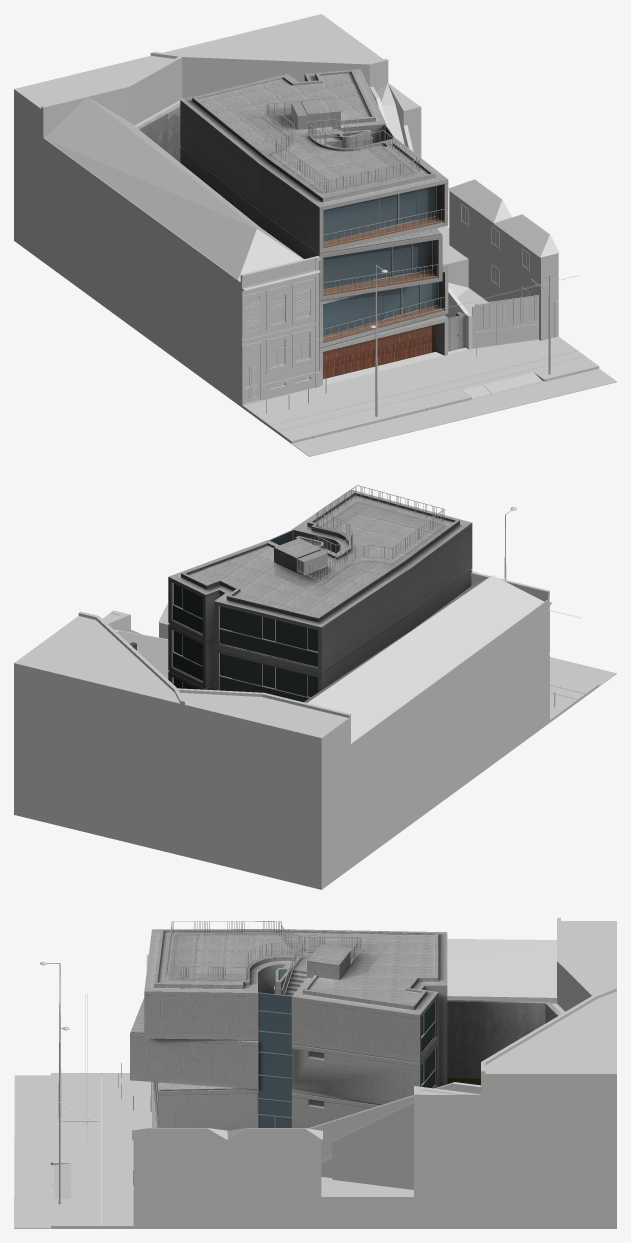
3 renders of one model, top to bottom at view 1: azimuth 30°, elevation 25°; view 2: azimuth 150°, elevation 25°; view 3: azimuth 270°, elevation 25°, orthographic.
Visible parts, largest first — view 1: Mesh24 Group13 Group12 Group2 Model, Mesh7 Group1 Model, Mesh52 Union Group43 Model, Mesh514 Group274 Group273 Group270 Group268 Group64 Model, Mesh107 Group100 Group96 Group90 Group64 Model, Mesh25 Group15 Group14 Model, Mesh14 Group4 Group3 Group2 Model, Mesh375 Group215 Group214 Group213 Group64 Model, Mesh22 Group10 Group3 Group2 Model, Mesh380 Group216 Group214 Group213 Group64 Model, Mesh512 Group272 Group270 Group268 Group64 Model, Mesh230 Group138 Group137 Group64 Model (+18 smaller); view 2: Mesh24 Group13 Group12 Group2 Model, Mesh7 Group1 Model, Mesh514 Group274 Group273 Group270 Group268 Group64 Model, Mesh52 Union Group43 Model, Mesh500 Group255 Group240 janelas_tras_2_2 Group213 Group64 , Mesh375 Group215 Group214 Group213 Group64 Model, Mesh380 Group216 Group214 Group213 Group64 Model, Mesh512 Group272 Group270 Group268 Group64 Model, Mesh347 Group178 Group174 Group159 Group64 Model, Mesh345 Group177 Group174 Group159 Group64 Model, Mesh485 Group233 Group213 Group64 Model, Mesh240 Group151 Group137 Group64 Model (+2 smaller); view 3: Mesh24 Group13 Group12 Group2 Model, Mesh514 Group274 Group273 Group270 Group268 Group64 Model, Mesh52 Union Group43 Model, Mesh347 Group178 Group174 Group159 Group64 Model, Mesh375 Group215 Group214 Group213 Group64 Model, Mesh51 OuterShell Group42 Group41 Group14 Model, Mesh7 Group1 Model, Mesh14 Group4 Group3 Group2 Model, Mesh22 Group10 Group3 Group2 Model, Mesh245 Group155 Group137 Group64 Model, Mesh98 Group92 Group91 Group90 Group64 Model, Mesh942 Group279 Group277 Group268 Group64 Model (+17 smaller).
Boxes of the visible parts, box(x1,y1,x2,y2) form: Mesh24 Group13 Group12 Group2 Model: box(14, 14, 616, 456); Mesh7 Group1 Model: box(45, 97, 320, 404); Mesh52 Union Group43 Model: box(15, 14, 387, 137); Mesh514 Group274 Group273 Group270 Group268 Group64 Model: box(198, 73, 429, 196); Mesh107 Group100 Group96 Group90 Group64 Model: box(323, 186, 437, 335); Mesh25 Group15 Group14 Model: box(448, 179, 558, 340); Mesh14 Group4 Group3 Group2 Model: box(243, 336, 573, 422); Mesh375 Group215 Group214 Group213 Group64 Model: box(180, 78, 448, 249); Mesh22 Group10 Group3 Group2 Model: box(292, 369, 616, 456); Mesh380 Group216 Group214 Group213 Group64 Model: box(180, 69, 448, 210); Mesh512 Group272 Group270 Group268 Group64 Model: box(192, 70, 435, 202); Mesh230 Group138 Group137 Group64 Model: box(323, 324, 435, 378); Mesh24 Group13 Group12 Group2 Model: box(14, 549, 616, 889); Mesh7 Group1 Model: box(304, 571, 550, 742); Mesh514 Group274 Group273 Group270 Group268 Group64 Model: box(187, 495, 453, 616); Mesh52 Union Group43 Model: box(15, 611, 349, 737); Mesh500 Group255 Group240 janelas_tras_2_2 Group213 Group64 : box(173, 583, 317, 702); Mesh375 Group215 Group214 Group213 Group64 Model: box(168, 527, 472, 669); Mesh380 Group216 Group214 Group213 Group64 Model: box(168, 489, 472, 630); Mesh512 Group272 Group270 Group268 Group64 Model: box(181, 491, 459, 621); Mesh347 Group178 Group174 Group159 Group64 Model: box(168, 575, 471, 692); Mesh345 Group177 Group174 Group159 Group64 Model: box(168, 569, 472, 689); Mesh485 Group233 Group213 Group64 Model: box(168, 565, 472, 673); Mesh240 Group151 Group137 Group64 Model: box(115, 630, 168, 679); Mesh24 Group13 Group12 Group2 Model: box(15, 918, 616, 1228); Mesh514 Group274 Group273 Group270 Group268 Group64 Model: box(157, 932, 434, 1004); Mesh52 Union Group43 Model: box(481, 918, 615, 1073); Mesh347 Group178 Group174 Group159 Group64 Model: box(130, 1037, 447, 1102); Mesh375 Group215 Group214 Group213 Group64 Model: box(144, 989, 447, 1058); Mesh51 OuterShell Group42 Group41 Group14 Model: box(321, 1086, 479, 1196); Mesh7 Group1 Model: box(146, 939, 557, 1111); Mesh14 Group4 Group3 Group2 Model: box(101, 1073, 151, 1225); Mesh22 Group10 Group3 Group2 Model: box(14, 1075, 50, 1228); Mesh245 Group155 Group137 Group64 Model: box(447, 1000, 561, 1078); Mesh98 Group92 Group91 Group90 Group64 Model: box(158, 1085, 441, 1130); Mesh942 Group279 Group277 Group268 Group64 Model: box(258, 970, 324, 1127).
Bounding box in the file's own units: 0.2153 × 0.1323 × 0.3584.
Materials: 24 (22 with a texture image).
